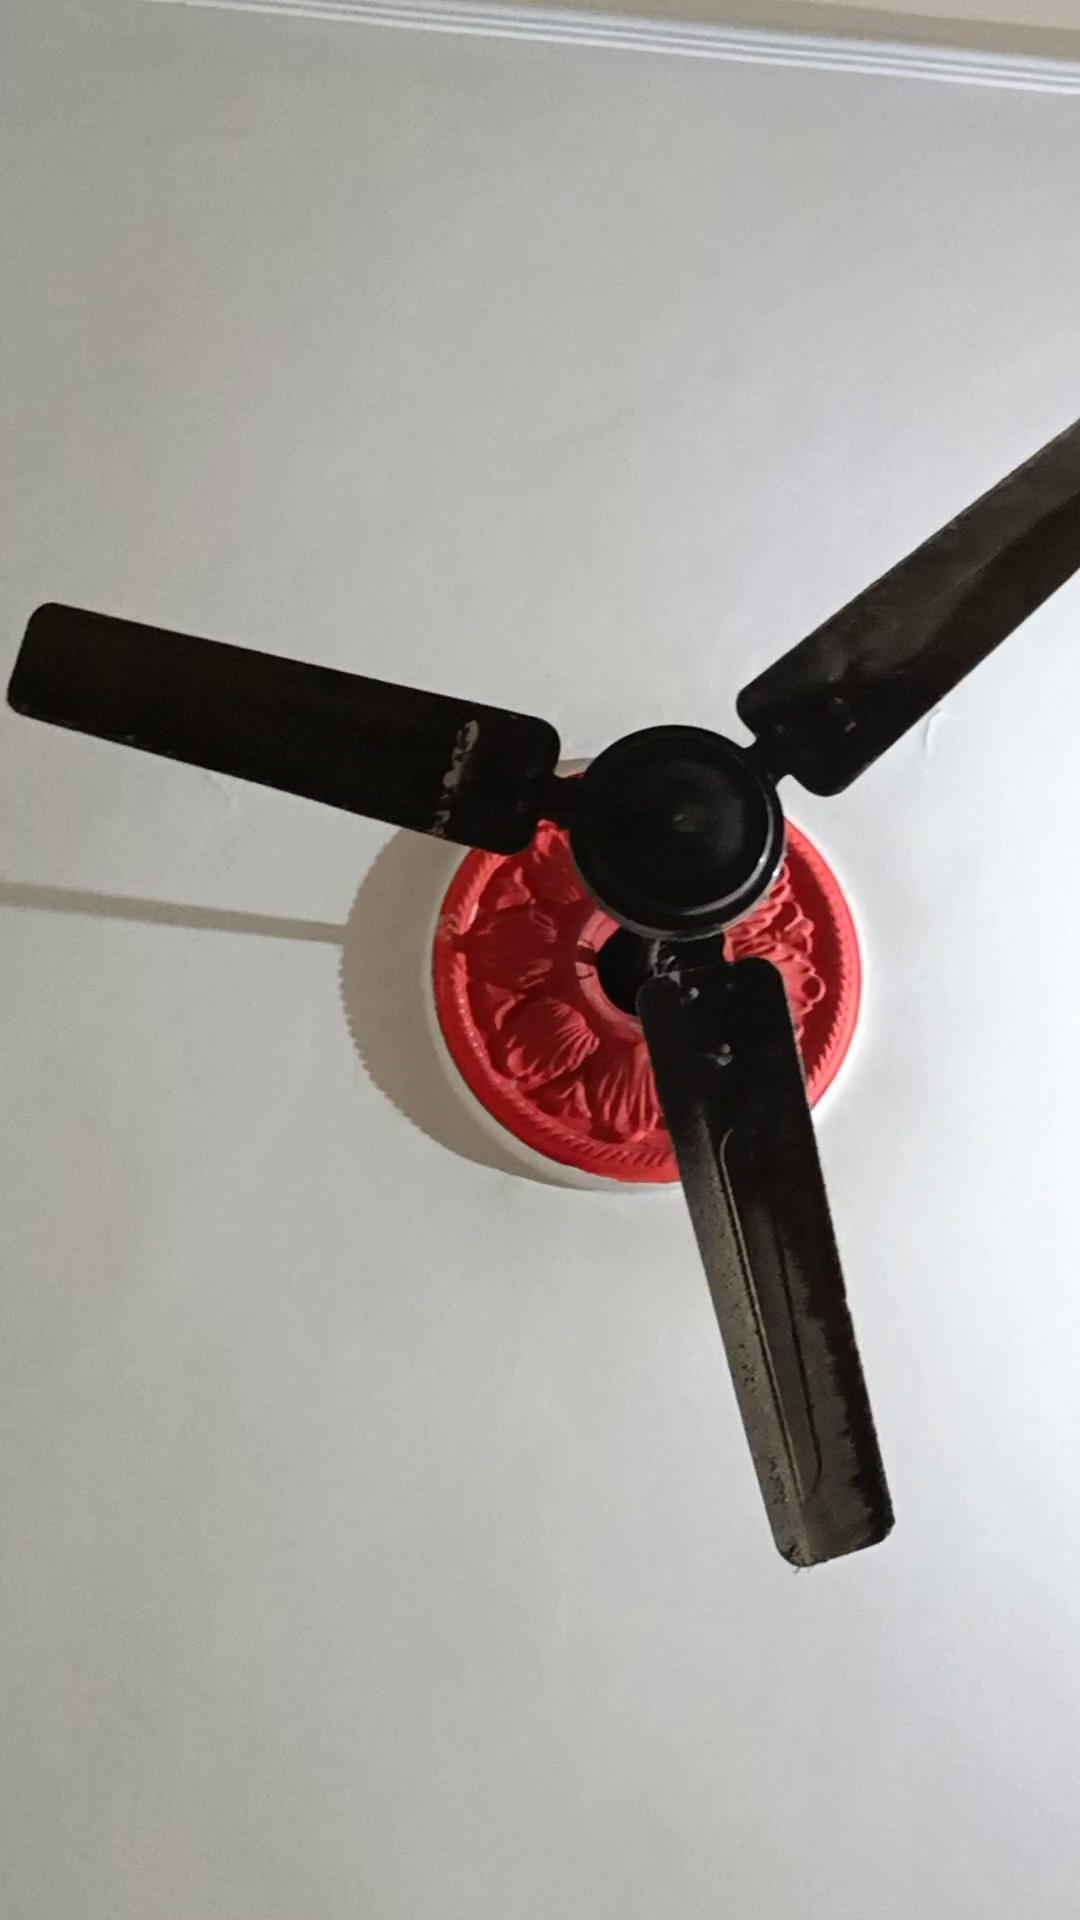fan: (17, 541, 1059, 1614)
